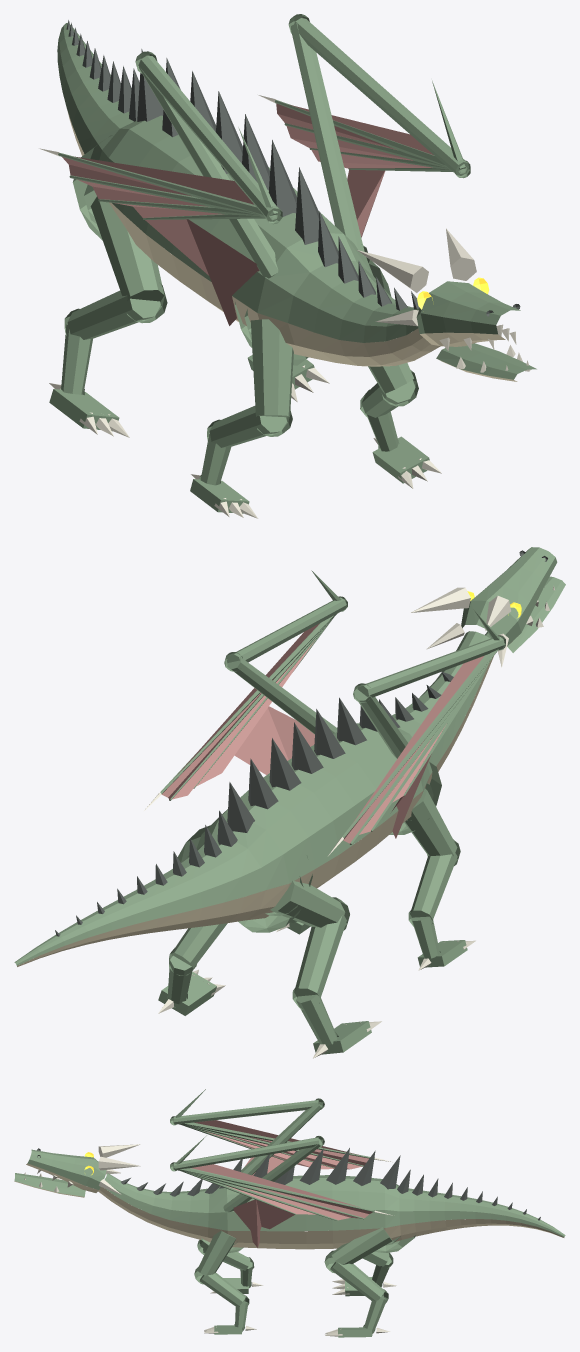
Rendered from dragons-and-wyverns-juvenile-dragon-crouched-1a71f853__36710.glb.
3 renders of one model, top to bottom at view 1: azimuth 30°, elevation 25°; view 2: azimuth 150°, elevation 25°; view 3: azimuth 270°, elevation 25°, orthographic. The views are drawn at different scales.
Parts seen in each view (by area): view 1: juvenile-dragon-crouched; view 2: juvenile-dragon-crouched; view 3: juvenile-dragon-crouched.
Boxes of the visible parts, x1,y1,x2,y2 form: juvenile-dragon-crouched: [39, 14, 536, 518]; juvenile-dragon-crouched: [14, 547, 565, 1058]; juvenile-dragon-crouched: [14, 1089, 565, 1337].
Bounding box in the file's own units: 0.6276 × 1.08 × 2.64.
